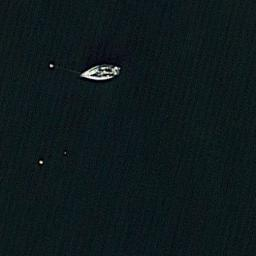boat: (78, 64, 121, 81)
